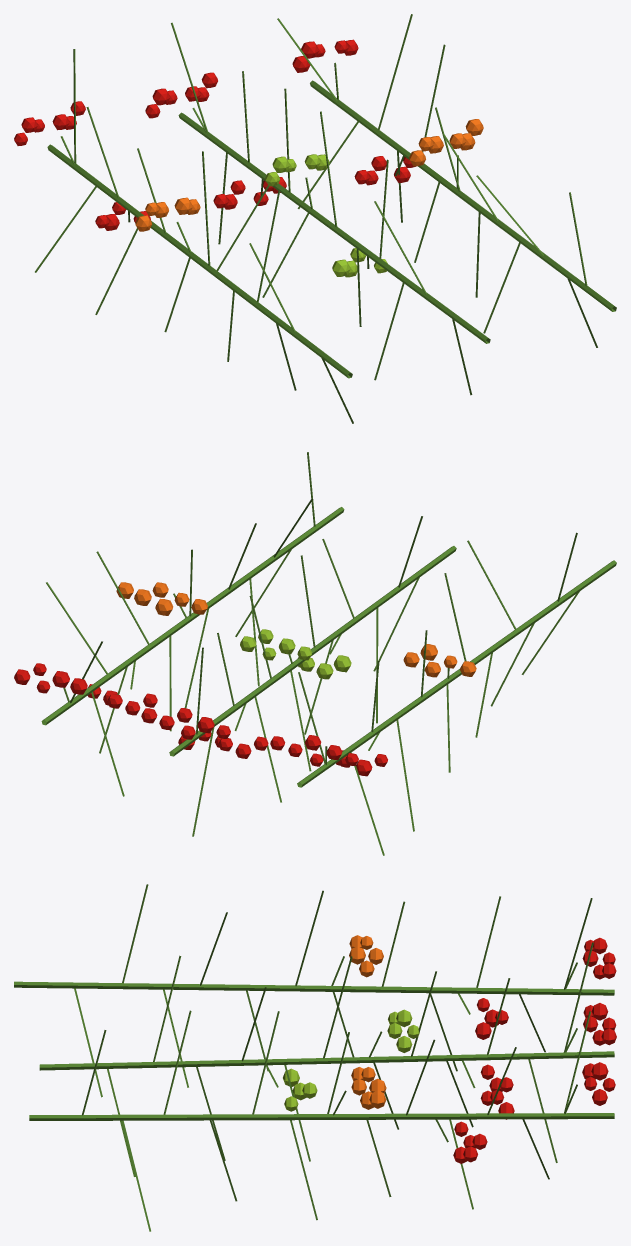
The model's file is r14c5_stems.obj.
The picture shows the model from 3 angles, top to bottom: view 1: azimuth 30°, elevation 25°; view 2: azimuth 150°, elevation 25°; view 3: azimuth 270°, elevation 25°; orthographic projection. The views are drawn at different scales.
Parts seen in each view (by area): view 1: r14c5_stems; view 2: r14c5_stems; view 3: r14c5_stems.
Boxes of the visible parts, x1=… form: r14c5_stems: x1=14, y1=14, x2=616, y2=423; r14c5_stems: x1=14, y1=452, x2=616, y2=855; r14c5_stems: x1=14, y1=884, x2=616, y2=1231.
Bounding box in the file's own units: 1.52 × 0.8865 × 2.27.
